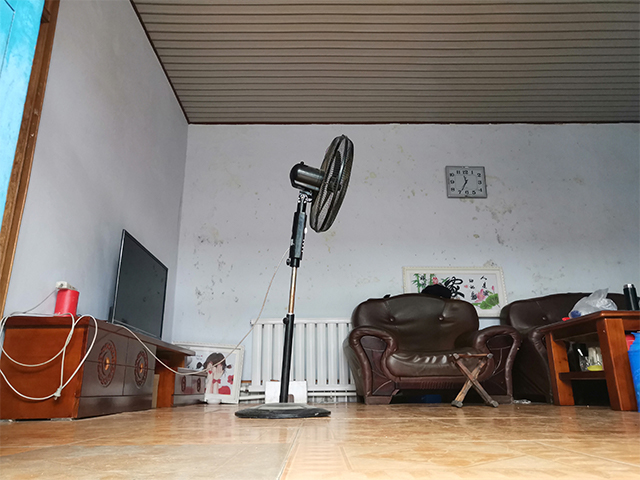cabinet: (1, 313, 199, 421)
sofa: (342, 291, 521, 406), (499, 291, 640, 405)
stool: (444, 350, 500, 408)
table: (535, 309, 640, 413)
wire: (1, 309, 97, 402)
